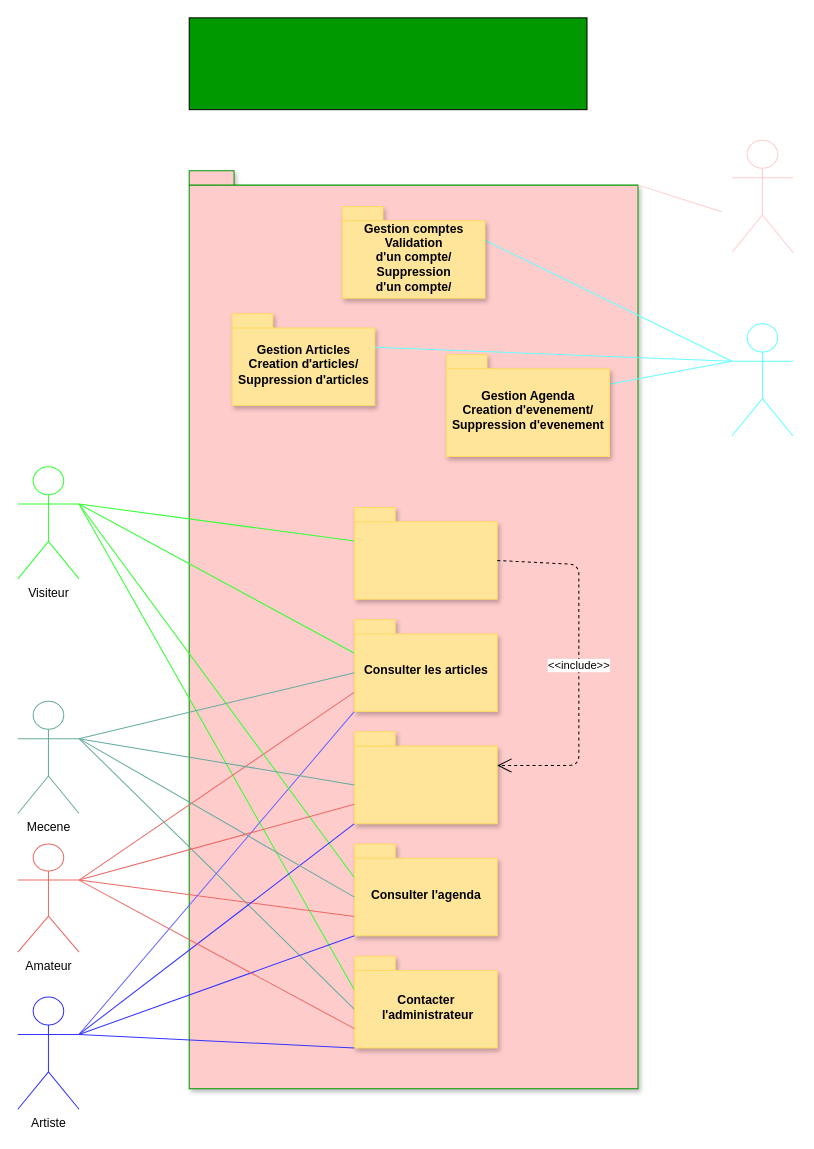
Some shapes in this 814 by 1149 pixel diagram are drawn without their labels. Here are the shapes that lost their labels. From the top down, the centre of each, then its label:
At (387,63): "Use Case ARTGB".
At (762,195): "<<system>>".
At (762,379): "Admin".
At (426,554): "S'enregistrer / authentification".
At (426,779): "Participer aux fils de discussions".
